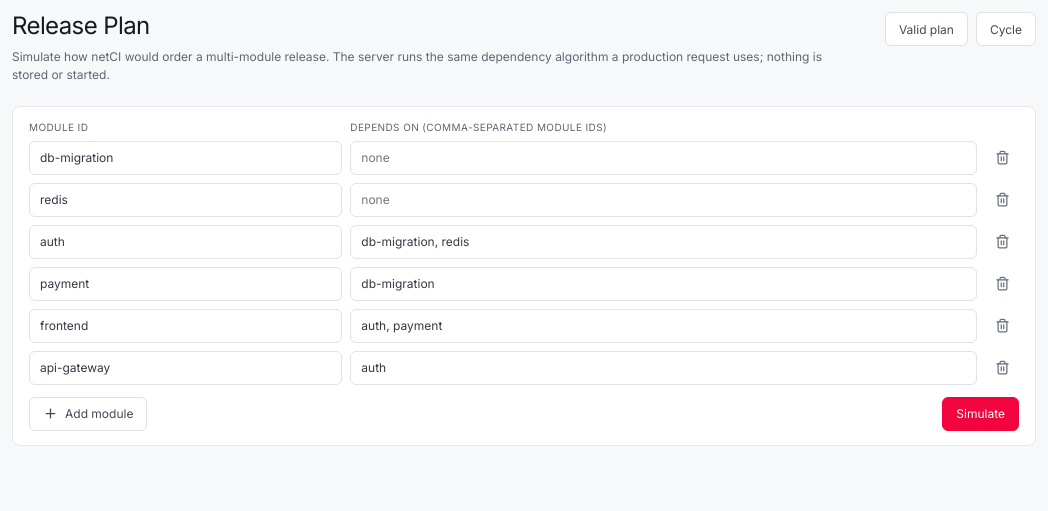
Test case: ReleasePlanPage › shows a request error instead of a result
The image size is (1048, 511).
Click the button "Simulate". click: (981, 414)
box: [942,397,1019,431]
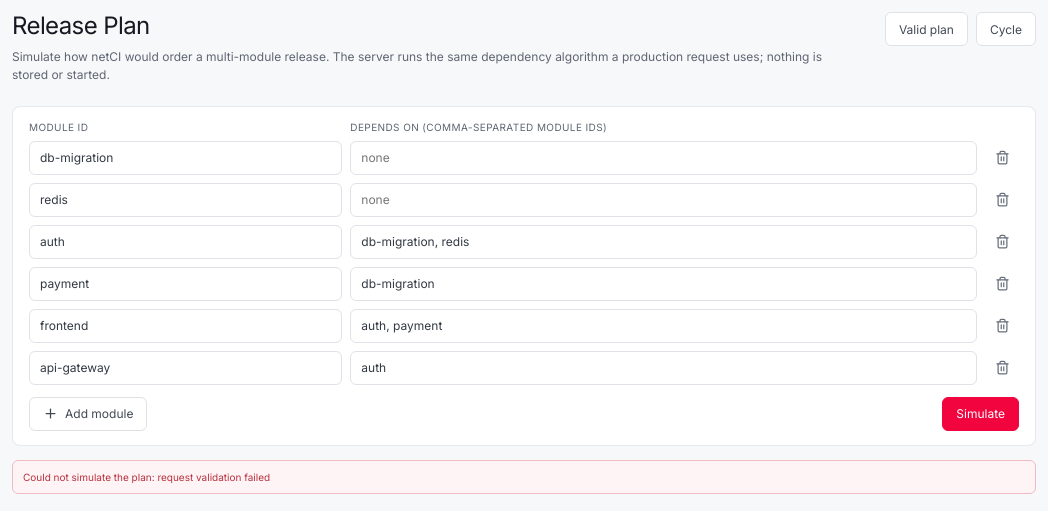
Expected: the message shows "request validation failed", [157,471,270,483]
